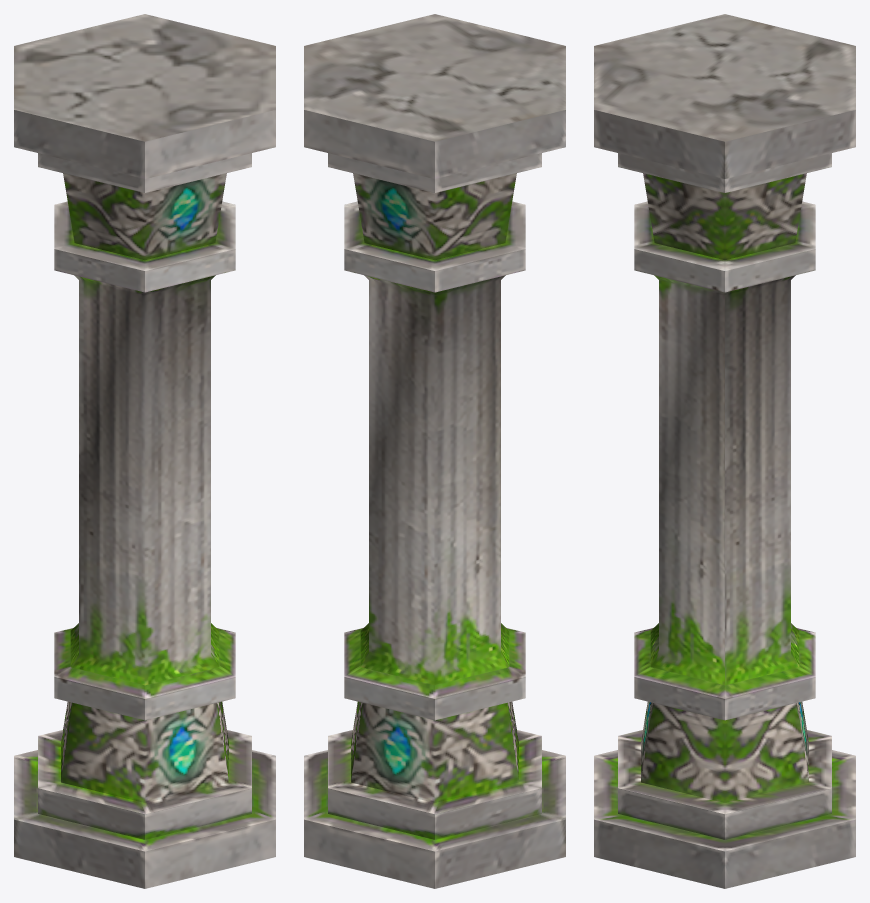
The model's file is F01_pillar01_a.FBX.
3 views of the same model, side by side, from view 1: azimuth 30°, elevation 25°; view 2: azimuth 150°, elevation 25°; view 3: azimuth 270°, elevation 25° (orthographic).
Parts seen in each view (by area): view 1: F01_pillar01_a; view 2: F01_pillar01_a; view 3: F01_pillar01_a.
Boxes of the visible parts, x1=… form: F01_pillar01_a: x1=14, y1=14, x2=275, y2=888; F01_pillar01_a: x1=304, y1=14, x2=565, y2=888; F01_pillar01_a: x1=594, y1=14, x2=855, y2=888.
Size of the model in its own units: 173 by 472 by 150.
